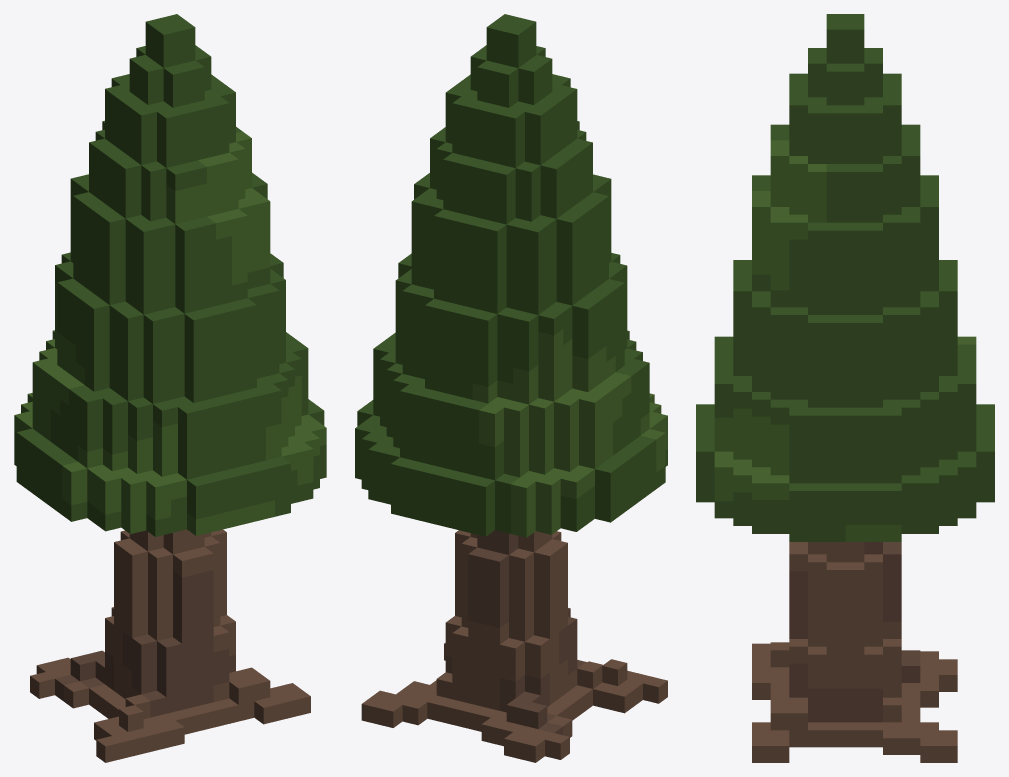
The model's file is arbol mediano.obj.
3 views of the same model, side by side, from view 1: azimuth 30°, elevation 25°; view 2: azimuth 150°, elevation 25°; view 3: azimuth 270°, elevation 25° (orthographic). The views are drawn at different scales.
Size of the model in its own units: 1.6 by 4.1 by 1.6.
1 material, 1 textured.
